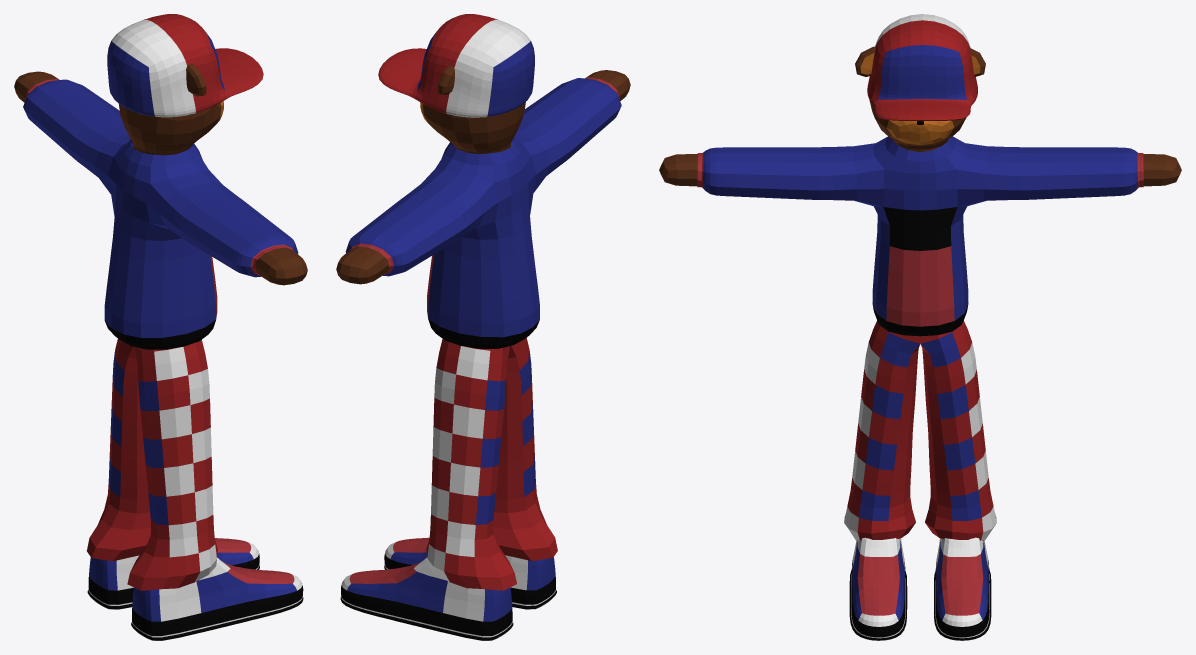
The model's file is blenderue4.fbx.
The picture shows the model from 3 angles, left to right: view 1: azimuth 30°, elevation 25°; view 2: azimuth 150°, elevation 25°; view 3: azimuth 270°, elevation 25°; orthographic projection. The views are drawn at different scales.
Parts seen in each view (by area): view 1: Hoodie, Pantelones, El sombrero, Shoe.R, Head, Hands, Shoe.L; view 2: Hoodie, Pantelones, El sombrero, Shoe.L, Head, Hands, Shoe.R; view 3: Hoodie, Pantelones, El sombrero, Shoe.R, Shoe.L, Head, Hands.
Part boxes in pixels (x1,y1,x2,y2): Hoodie: (23,79,298,349); Pantelones: (87,339,217,590); El sombrero: (107,14,263,117); Shoe.R: (131,557,303,640); Head, Hands: (14,64,307,285); Shoe.L: (87,538,259,609); Hoodie: (345,77,621,348); Pantelones: (426,338,557,590); El sombrero: (378,14,534,117); Shoe.L: (340,557,513,640); Head, Hands: (336,65,630,284); Shoe.R: (384,537,556,609); Hoodie: (697,136,1143,336); Pantelones: (844,320,996,540); El sombrero: (867,14,977,120); Shoe.R: (849,537,907,640); Shoe.L: (934,537,991,640); Head, Hands: (659,46,1181,186).
Size of the model in its own units: 828 by 300 by 987.
